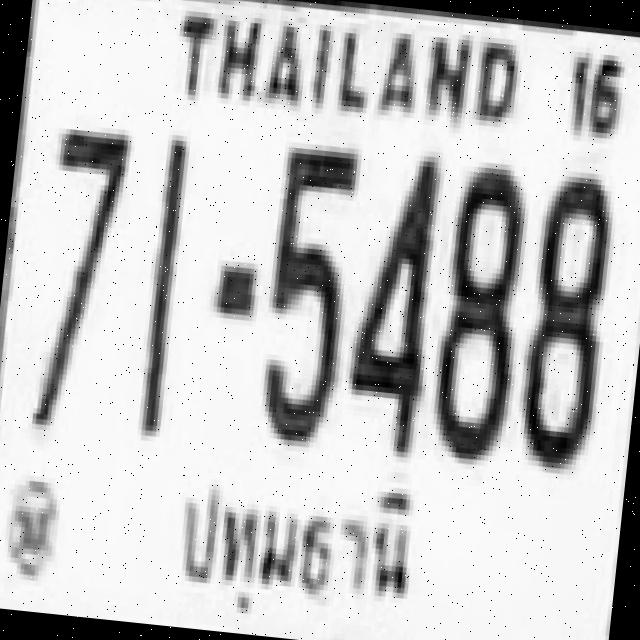1: (133, 134, 192, 422)
4: (340, 147, 444, 456)
5: (255, 138, 362, 446)
7: (29, 122, 132, 420), (36, 123, 132, 363), (39, 123, 132, 327), (41, 122, 132, 306)
8: (428, 159, 532, 462), (513, 170, 616, 468)
PathumThani: (156, 466, 422, 636)
